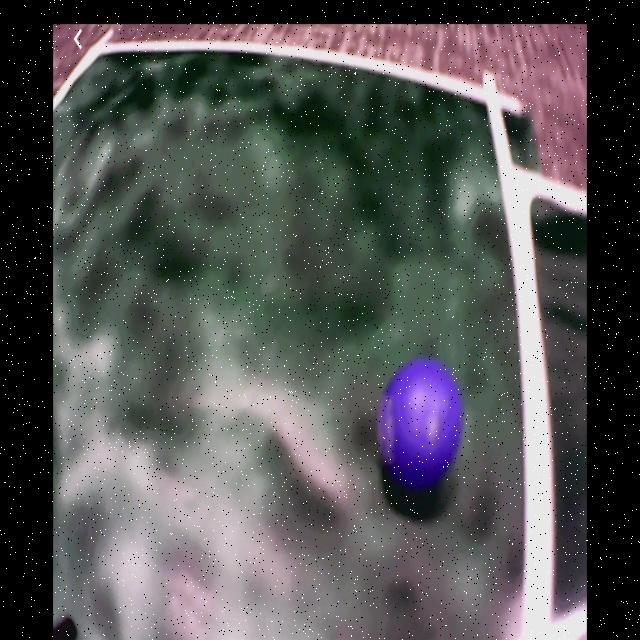ball: (381, 357, 463, 484)
